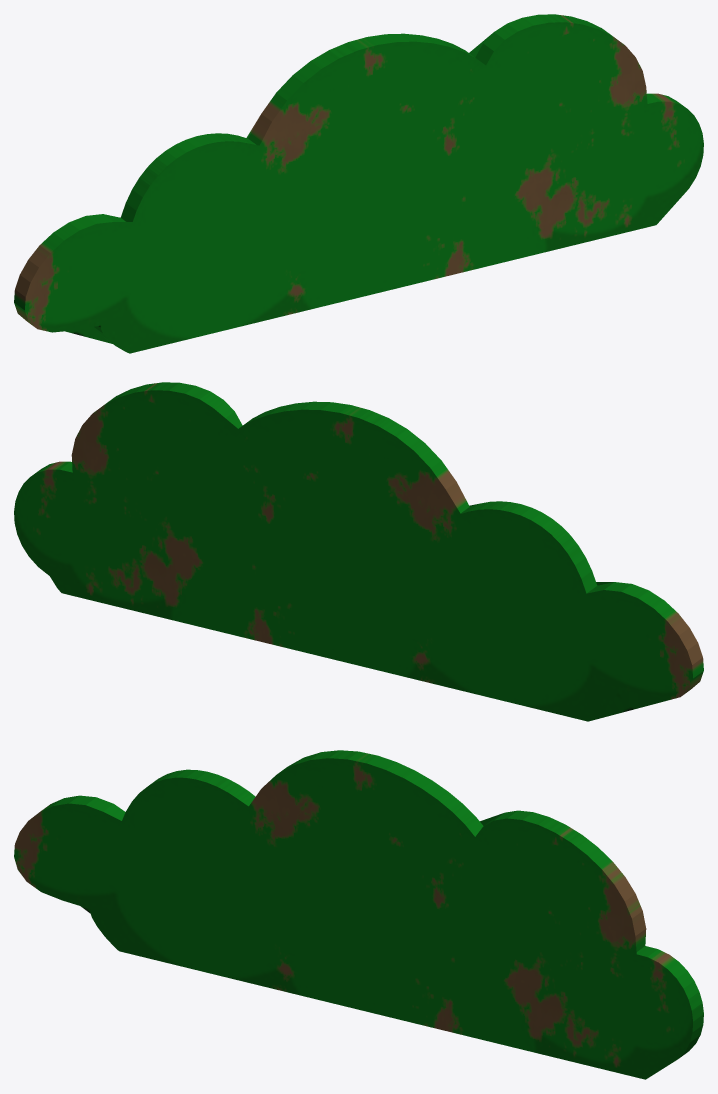
The model's file is Arbusto5Junto.fbx.
3 renders of one model, top to bottom at view 1: azimuth 30°, elevation 25°; view 2: azimuth 150°, elevation 25°; view 3: azimuth 330°, elevation 25°, orthographic.
Visible parts, largest first — view 1: arbusto 5; view 2: arbusto 5; view 3: arbusto 5.
Part boxes in pixels (x1,y1,x2,y2): arbusto 5: [14, 14, 703, 353]; arbusto 5: [14, 382, 703, 721]; arbusto 5: [14, 750, 703, 1079].
Bounding box in the file's own units: 642 × 224 × 17.73.
